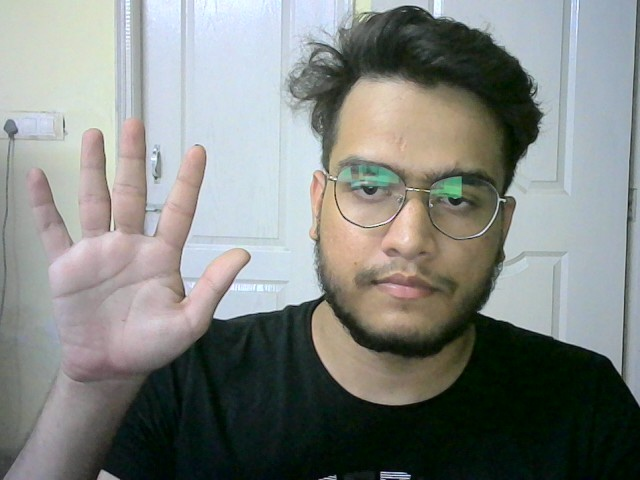Hello: (22, 112, 257, 393)
